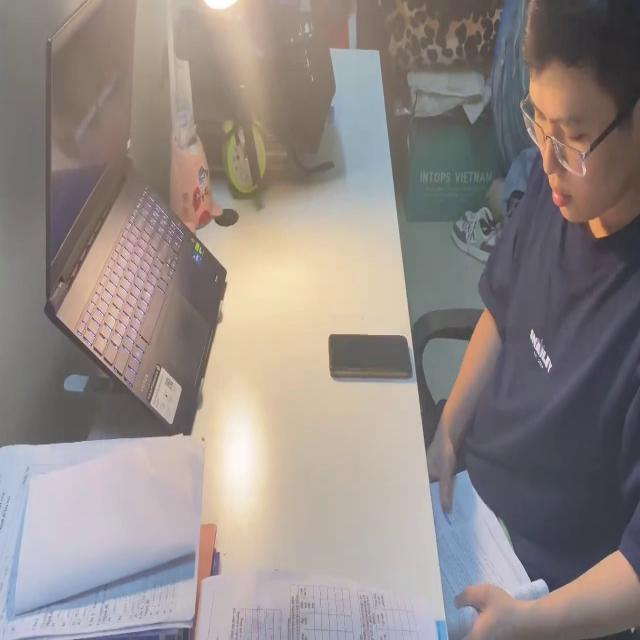book: (0, 437, 214, 639), (428, 461, 553, 640), (191, 566, 441, 640)
laptop: (42, 2, 226, 433)
phone: (329, 327, 412, 387)
student: (426, 0, 640, 640)
